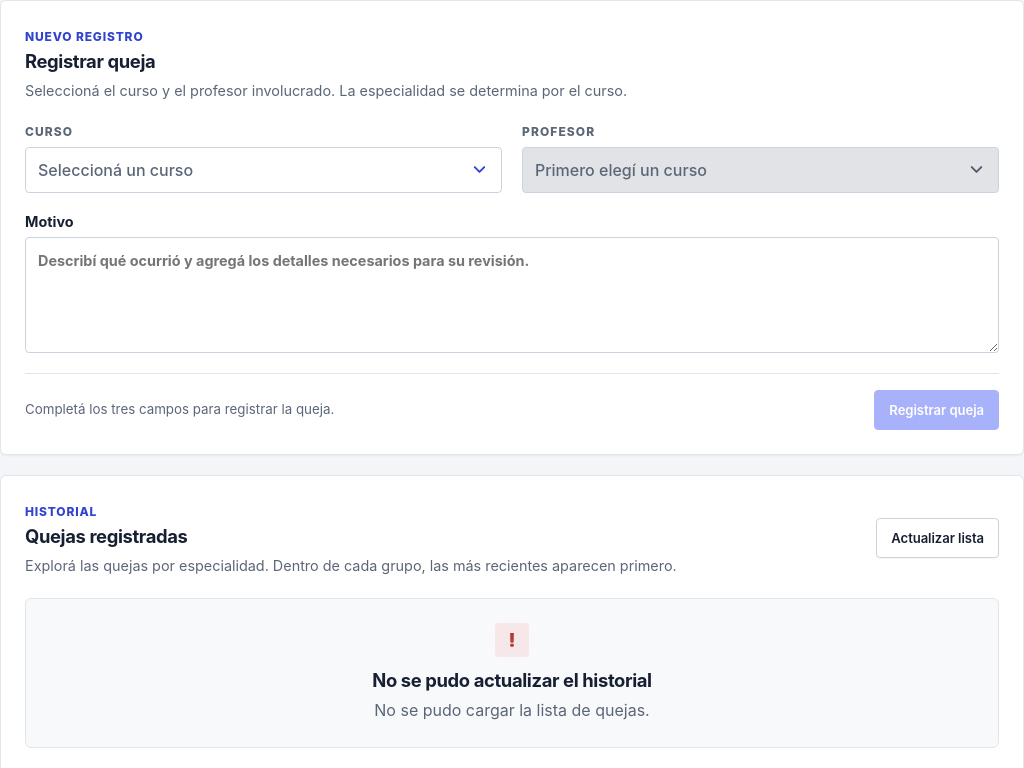
Test: AdminQuejasPanel › distingue un error inicial de un historial vacío y permite reintentar
Check: the message shows "No se pudo actualizar", box [372,669,652,691]
Check: the text "Todavía no hay quejas registradas" is not shown
What coordinates should you click on to do the following:
click the button "Actualizar lista"
I would click on:
 (938, 538)
Its box is [876,518,999,558].
(page scrolled)
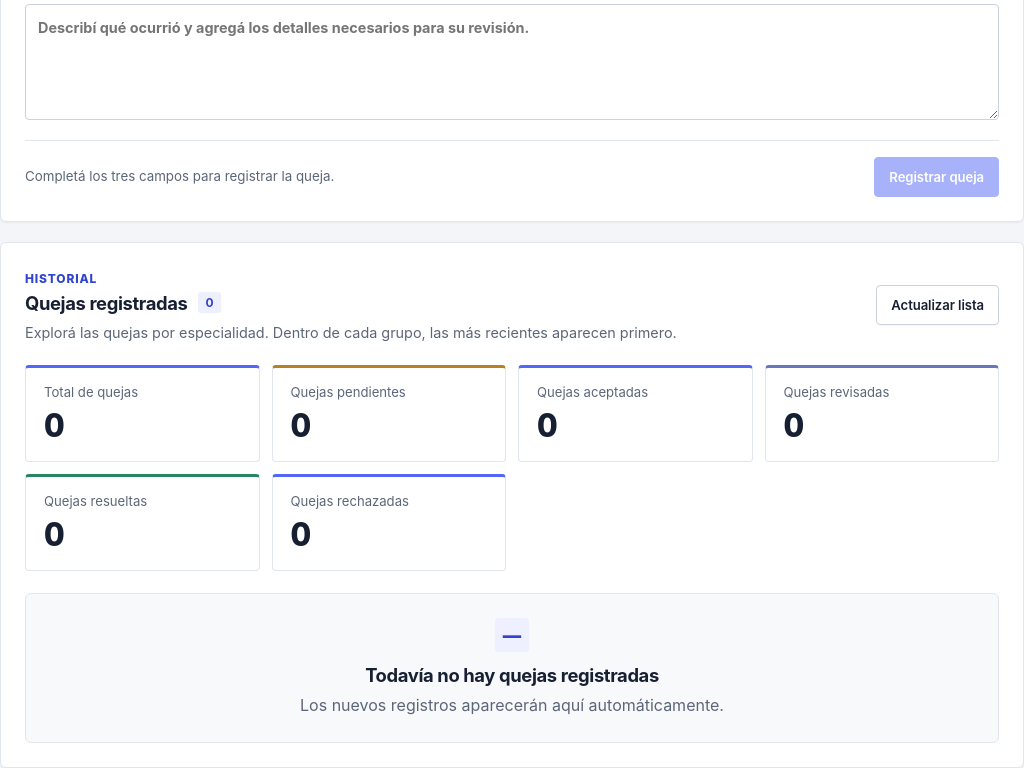
Check: the heading "Todavía no hay quejas registradas" is shown, box [365,664,659,686]
